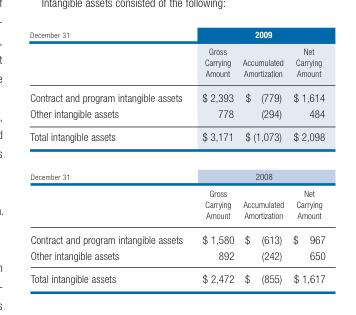table: (29, 28, 324, 284)
table column: (29, 28, 191, 284), (237, 28, 287, 284), (191, 28, 237, 284), (287, 28, 324, 284)
table column header: (29, 28, 324, 84)
table row: (29, 42, 324, 84), (29, 184, 324, 226), (29, 124, 324, 156), (29, 156, 324, 184), (29, 84, 324, 105), (29, 226, 324, 247), (29, 105, 324, 124), (29, 247, 324, 266), (29, 266, 324, 284), (29, 28, 324, 42)
table spanning cell: (29, 28, 191, 84), (191, 156, 324, 184), (191, 28, 324, 42)
